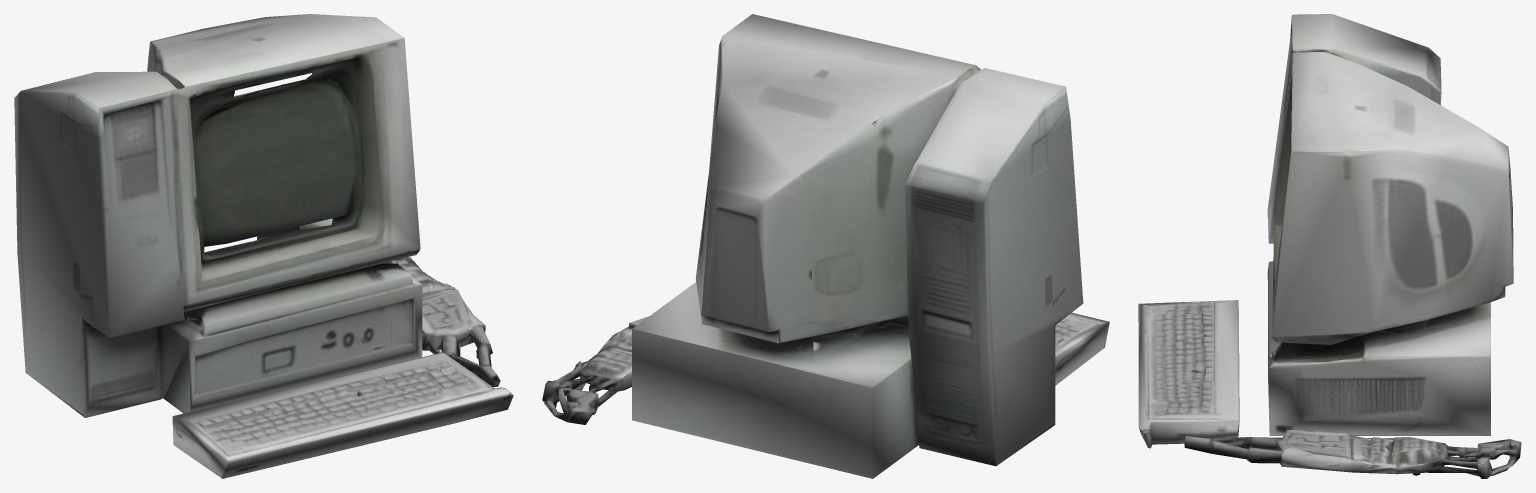
File: monitor.glb
The picture shows the model from 3 angles, left to right: view 1: azimuth 30°, elevation 25°; view 2: azimuth 150°, elevation 25°; view 3: azimuth 270°, elevation 25°; orthographic projection. The views are drawn at different scales.
Parts seen in each view (by area): view 1: monitor; view 2: monitor; view 3: monitor.
Boxes of the visible parts, x1,y1,x2,y2 form: monitor: (14, 14, 513, 478); monitor: (542, 14, 1109, 478); monitor: (1138, 14, 1521, 478).
Size of the model in its own units: 0.9987 by 0.772 by 0.9179.
Materials: 1 (1 with a texture image).
